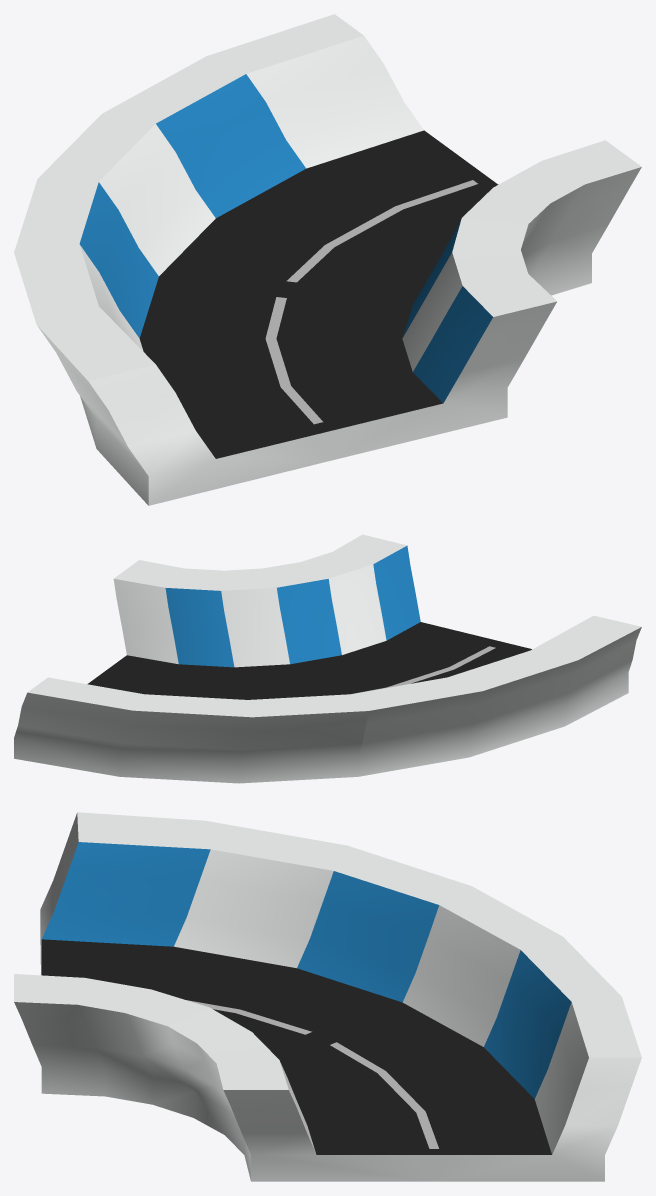
File: duong cong 3 blue.fbx
3 renders of one model, top to bottom at view 1: azimuth 30°, elevation 25°; view 2: azimuth 150°, elevation 25°; view 3: azimuth 270°, elevation 25°, orthographic. The views are drawn at different scales.
Visible parts, largest first — view 1: duong_cong_3; view 2: duong_cong_3; view 3: duong_cong_3.
Part boxes in pixels (x1,y1,x2,y2): duong_cong_3: [14, 14, 641, 505]; duong_cong_3: [14, 534, 641, 783]; duong_cong_3: [14, 812, 641, 1181].
Bounding box in the file's own units: 33.49 × 6.03 × 31.99.
Materials: 1 (1 with a texture image).
